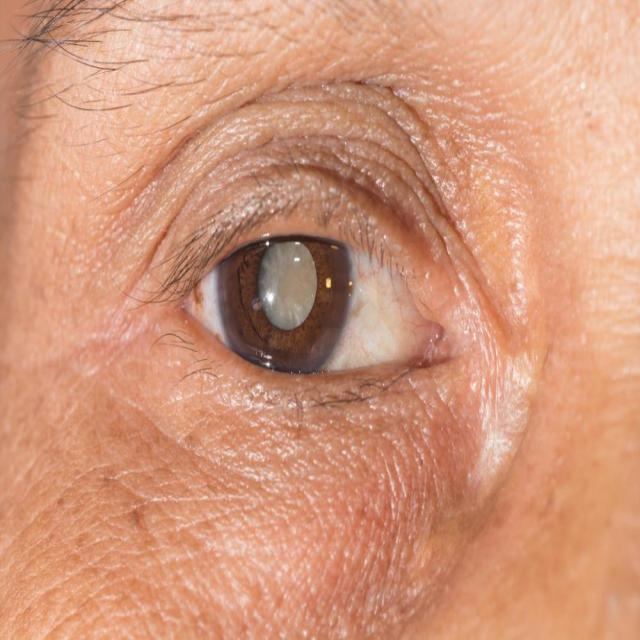Cataract: (216, 184, 352, 394)
